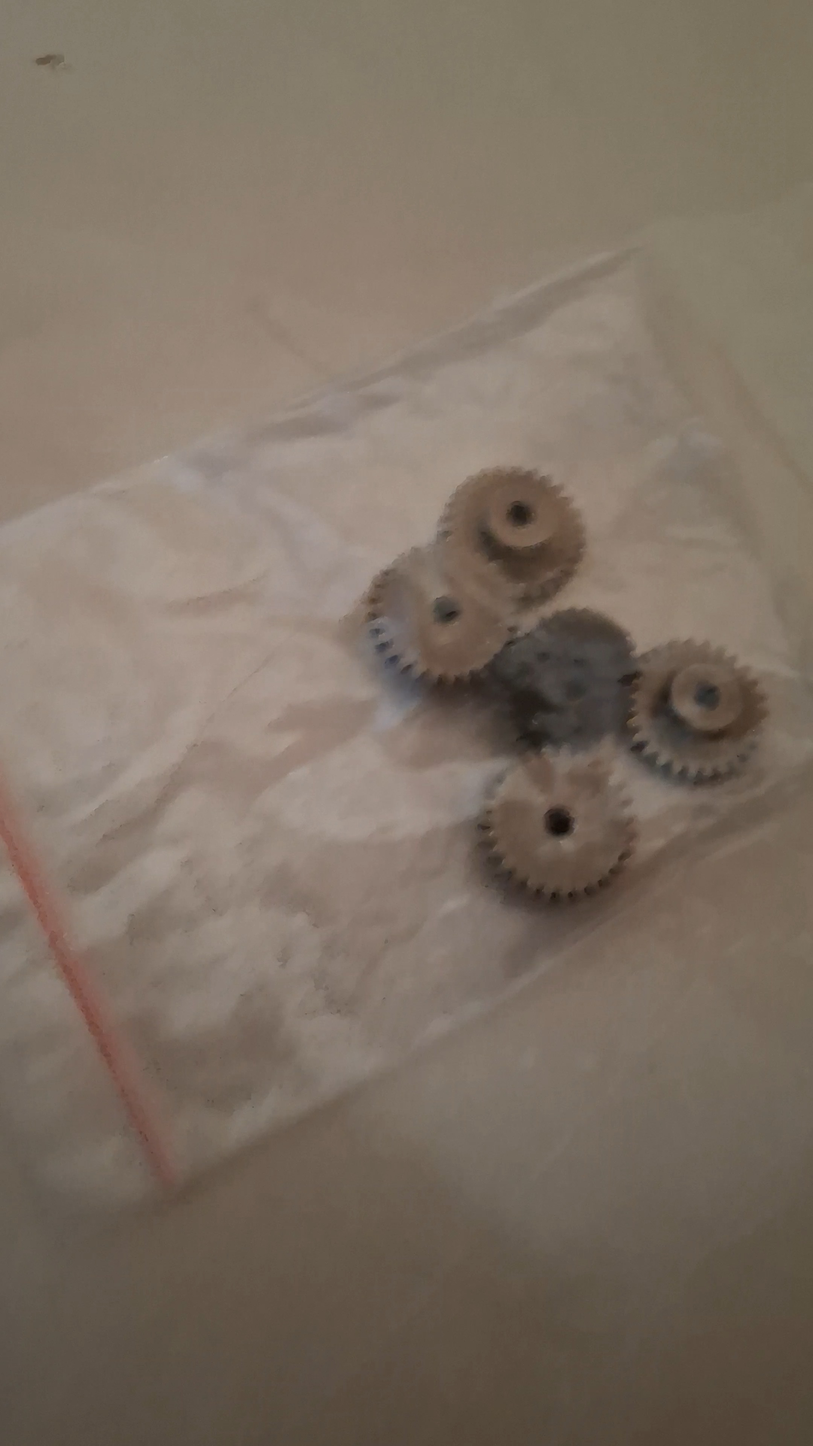spur gear: (481, 750, 636, 900), (487, 609, 635, 748), (439, 468, 585, 606), (367, 542, 510, 682), (629, 641, 766, 783)
